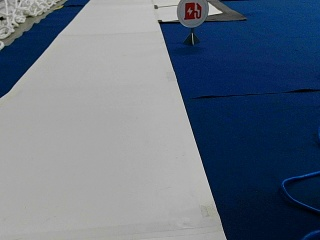battery: (175, 0, 210, 27)
